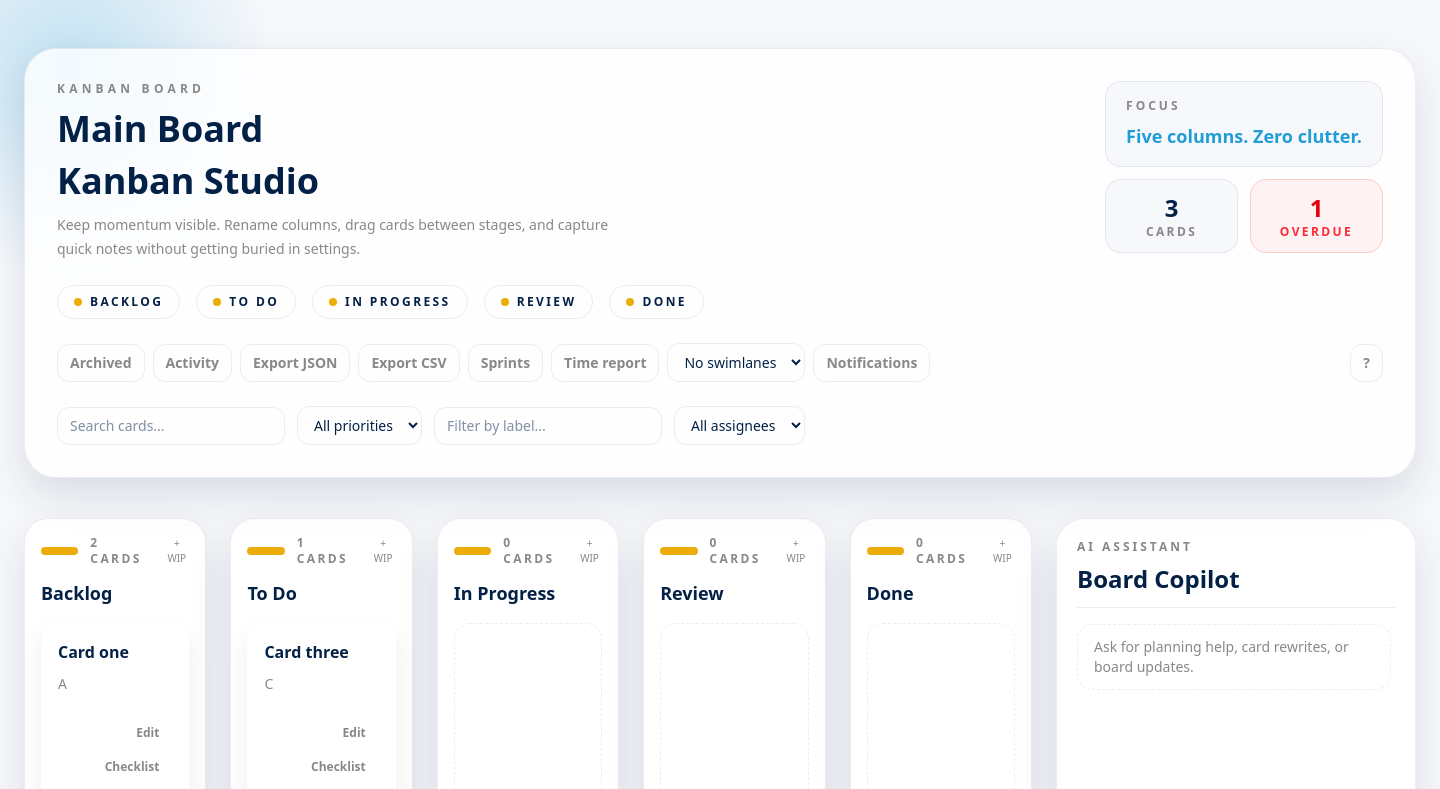
KanbanBoard › shows archived panel with cards when toggle is clicked
Click the button with aria-label "Toggle archived cards" at (101, 362), box [57,344,144,382]
(page scrolled)
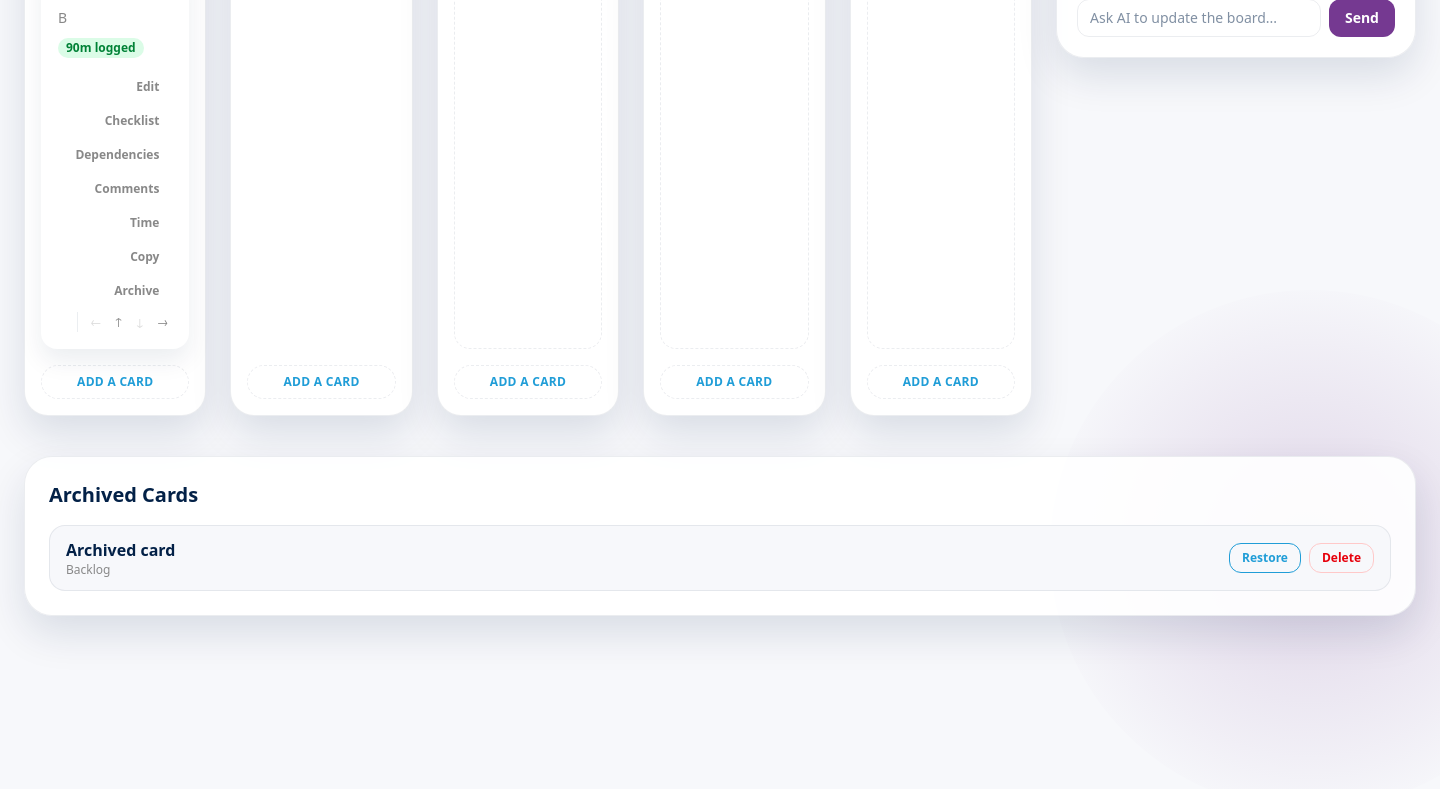
Expected: the element with test id "archived-panel" is shown, [24,456,1416,616]
Expected: the list item with test id "archived-card-99" is shown, [49,525,1391,591]
Expected: the text "Archived card" is shown, [66,538,175,562]
